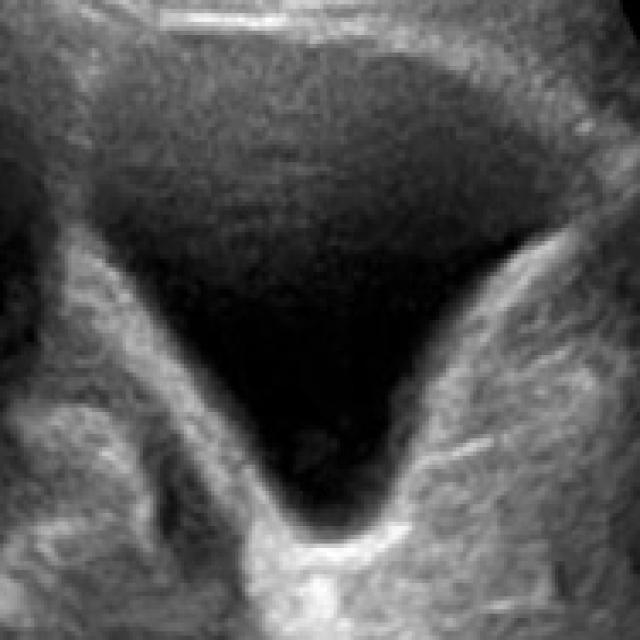bladder: (51, 5, 618, 612)
